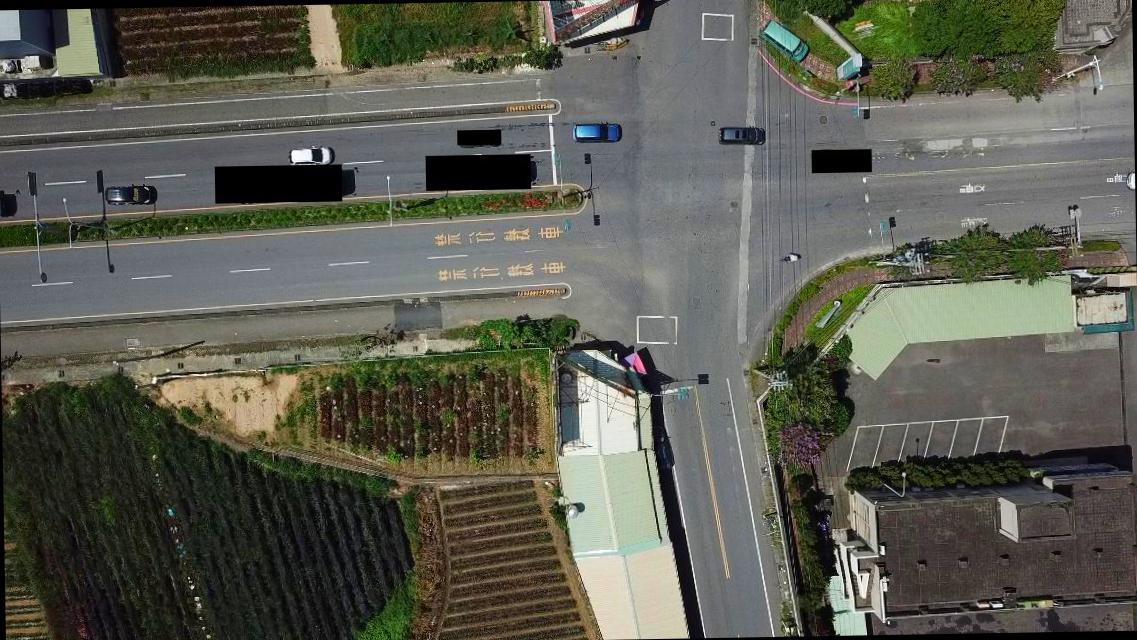vehicle: (760, 19, 808, 62), (106, 182, 154, 206), (286, 146, 332, 168), (717, 126, 764, 146), (570, 123, 622, 141)
